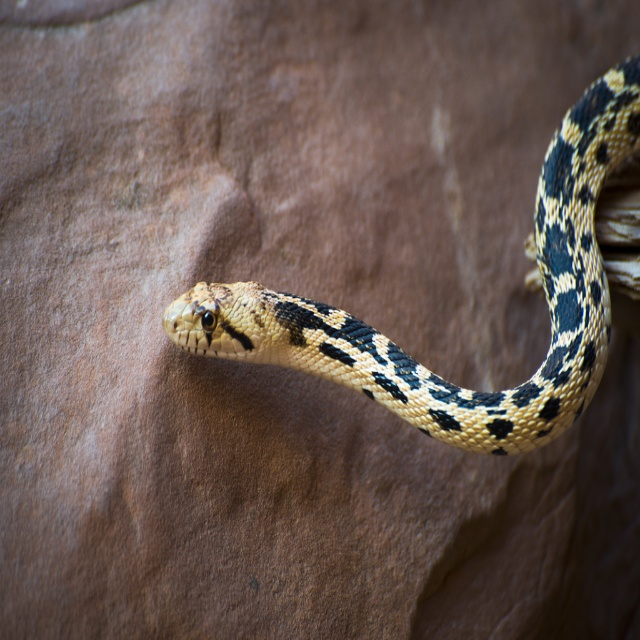Snake: (162, 52, 640, 458)
